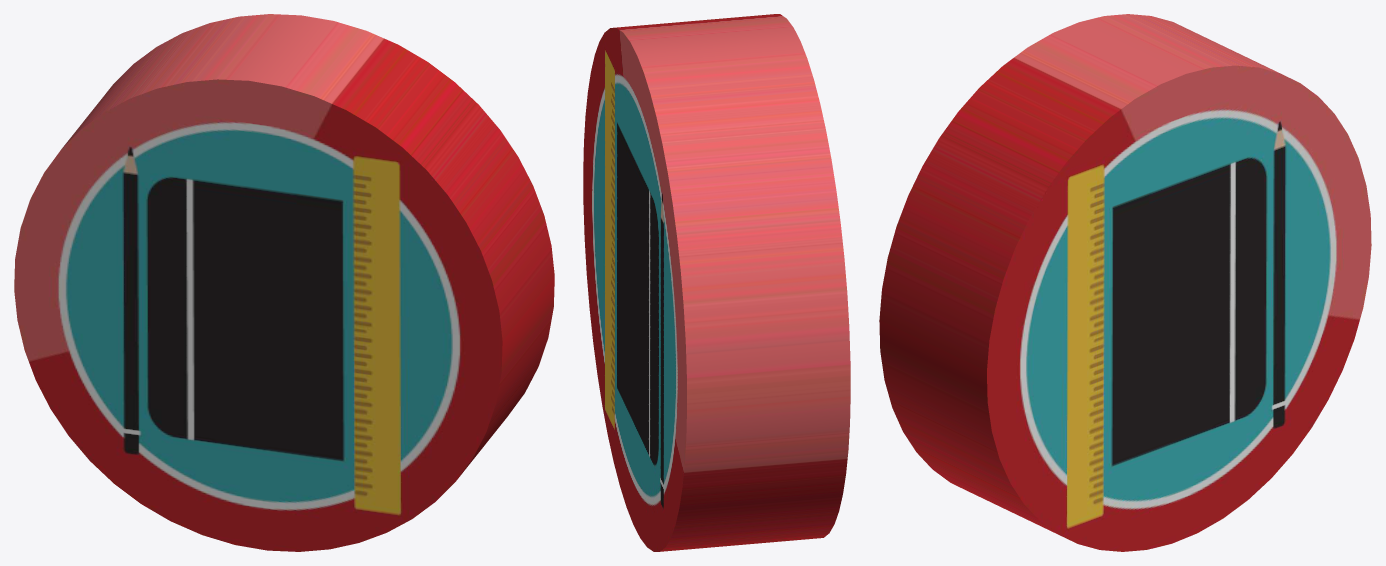
Rendered from HSBC Entorno_10_CAPAS_Cluster Cultura.fbx.
The picture shows the model from 3 angles, left to right: view 1: azimuth 30°, elevation 25°; view 2: azimuth 150°, elevation 25°; view 3: azimuth 270°, elevation 25°; orthographic projection. The views are drawn at different scales.
Parts seen in each view (by area): view 1: cilindro regla.001; view 2: cilindro regla.001; view 3: cilindro regla.001.
Boxes of the visible parts, x1,y1,x2,y2 form: cilindro regla.001: [14, 14, 554, 551]; cilindro regla.001: [583, 14, 850, 551]; cilindro regla.001: [879, 14, 1371, 551].
Bounding box in the file's own units: 301 × 335 × 321.
